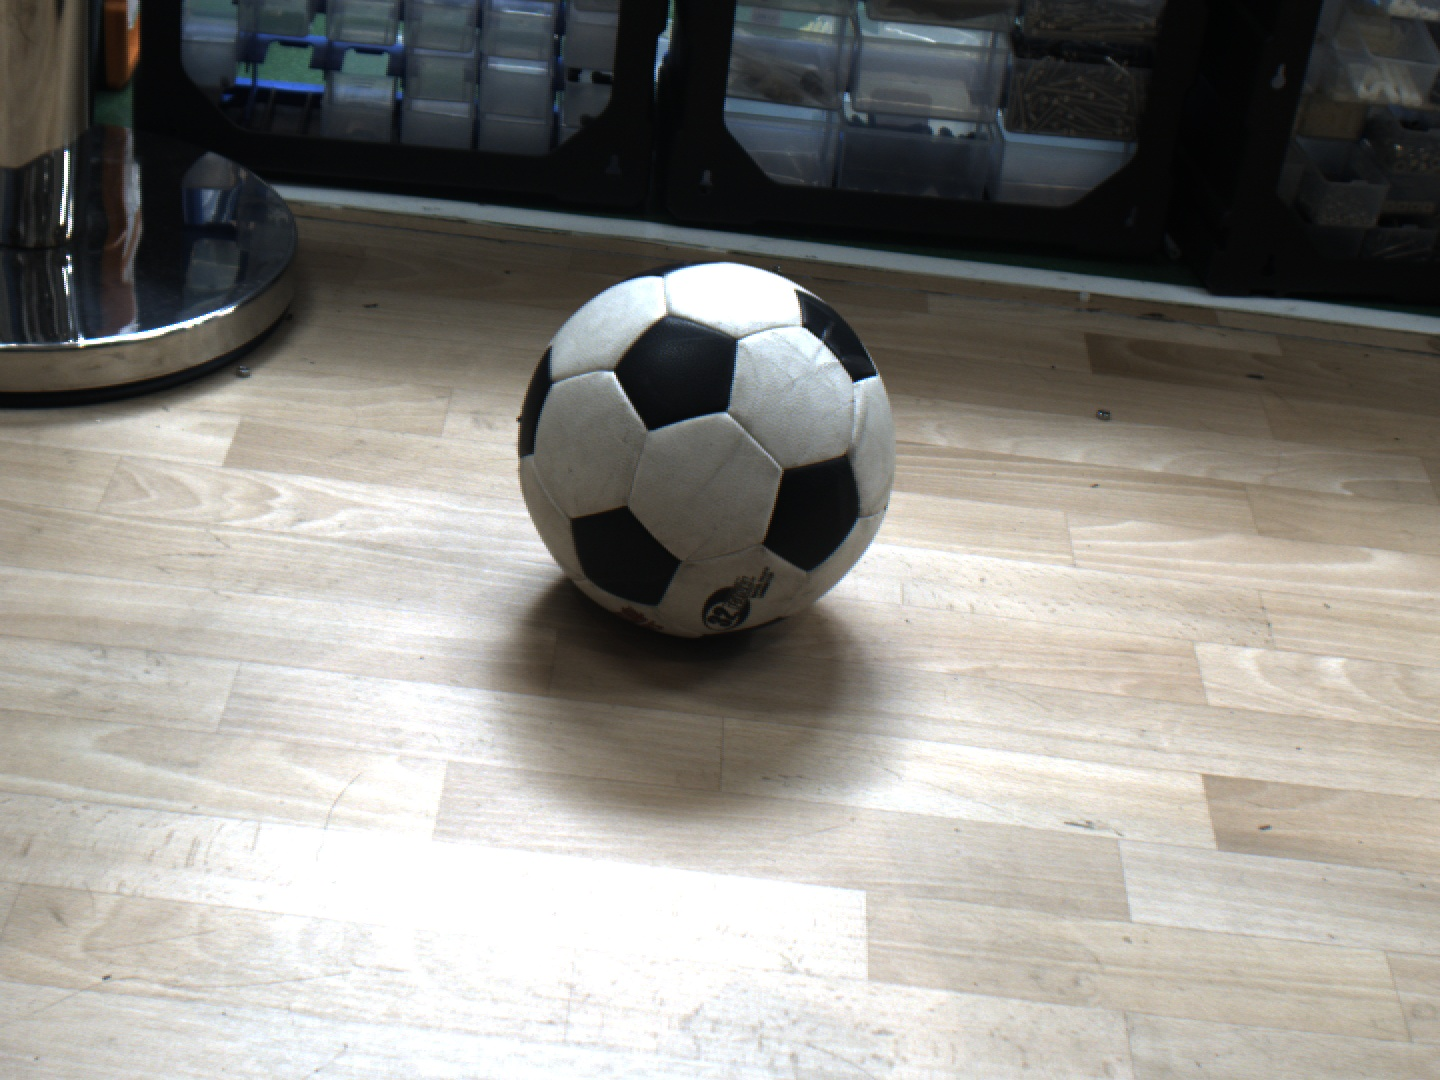ball: (509, 260, 896, 646)
